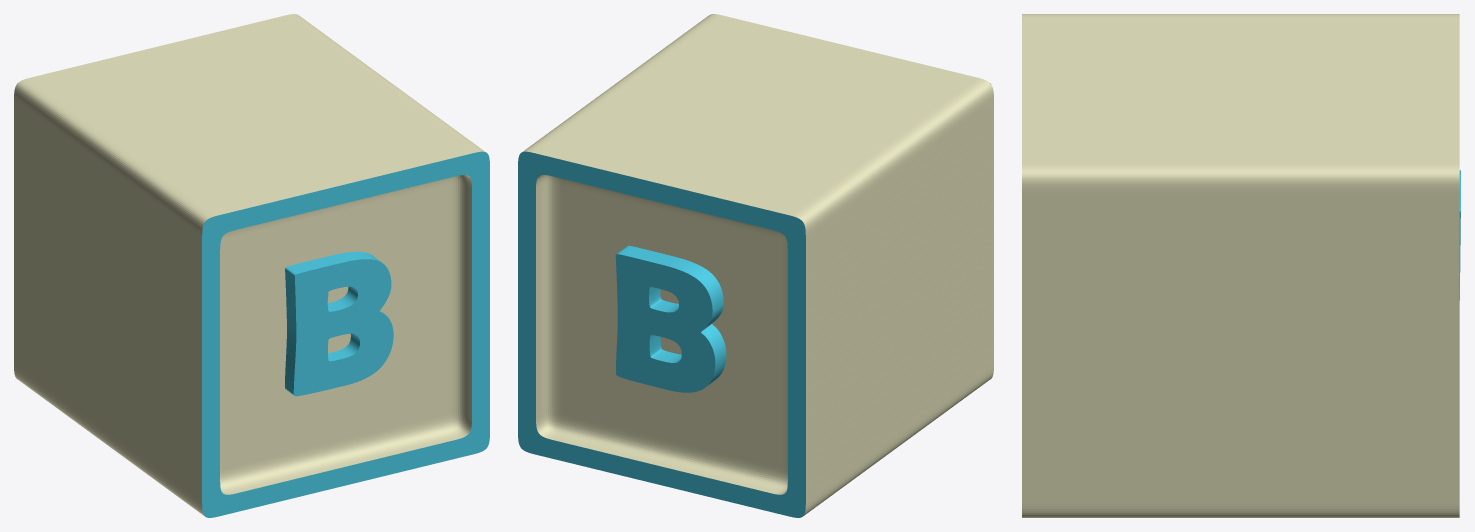
Rendered from letterbblock.fbx.
The picture shows the model from 3 angles, left to right: view 1: azimuth 30°, elevation 25°; view 2: azimuth 150°, elevation 25°; view 3: azimuth 270°, elevation 25°; orthographic projection. The views are drawn at different scales.
Visible parts, largest first — view 1: Cube, Cube.002, Text; view 2: Cube, Cube.001, Text.001; view 3: Cube.
Boxes of the visible parts, x1,y1,x2,y2 form: Cube: (14,14,485,515); Cube.002: (202,151,489,517); Text: (285,251,393,396); Cube: (522,14,993,515); Cube.001: (518,151,805,517); Text.001: (615,245,726,392); Cube: (1022,14,1459,517).
Size of the model in its own units: 1196 by 1196 by 1358.
